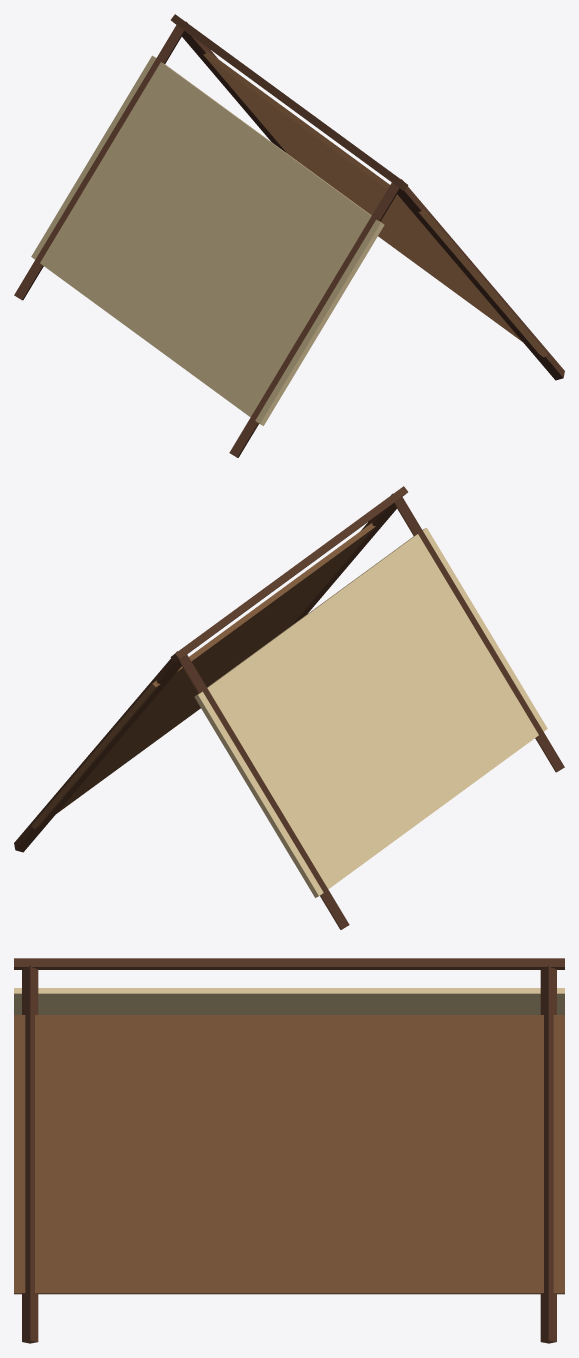
Rendered from tent.glb.
3 views of the same model, one above another, from view 1: azimuth 30°, elevation 25°; view 2: azimuth 150°, elevation 25°; view 3: azimuth 270°, elevation 25° (orthographic). The views are drawn at different scales.
Visible parts, largest first — view 1: Tent; view 2: Tent; view 3: Tent.
Part boxes in pixels (left/top/right/bottom): Tent: left=14, top=14, right=564, bottom=457; Tent: left=14, top=486, right=564, bottom=929; Tent: left=14, top=958, right=564, bottom=1343.
Size of what is drawn, in the model's own units: 2.88 by 1.99 by 3.4.
